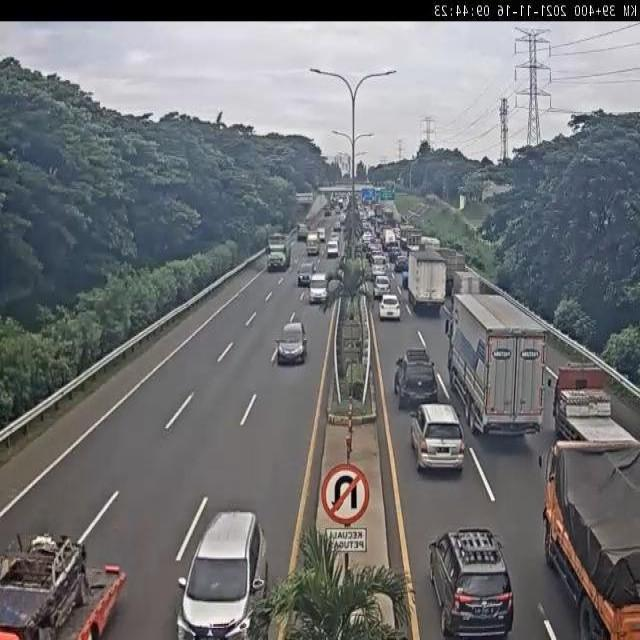Car: (176, 510, 269, 638), (428, 528, 515, 640), (410, 402, 465, 471), (393, 347, 438, 409), (277, 320, 308, 365), (378, 294, 402, 322), (297, 262, 316, 288), (373, 275, 391, 300), (394, 255, 408, 272)
Truck: (540, 436, 640, 637), (448, 292, 544, 439), (0, 527, 125, 637), (550, 366, 640, 442), (407, 250, 445, 310), (266, 232, 292, 271), (304, 231, 320, 255), (327, 239, 339, 258)
Van: (308, 272, 328, 304), (371, 253, 386, 280)
